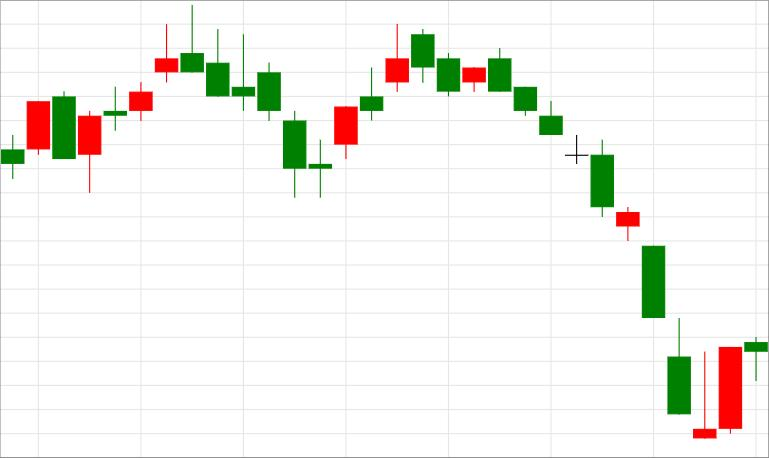morning_star_rise: (488, 48, 742, 439), (181, 5, 358, 199)
shooting_star_fall: (308, 24, 409, 199)
